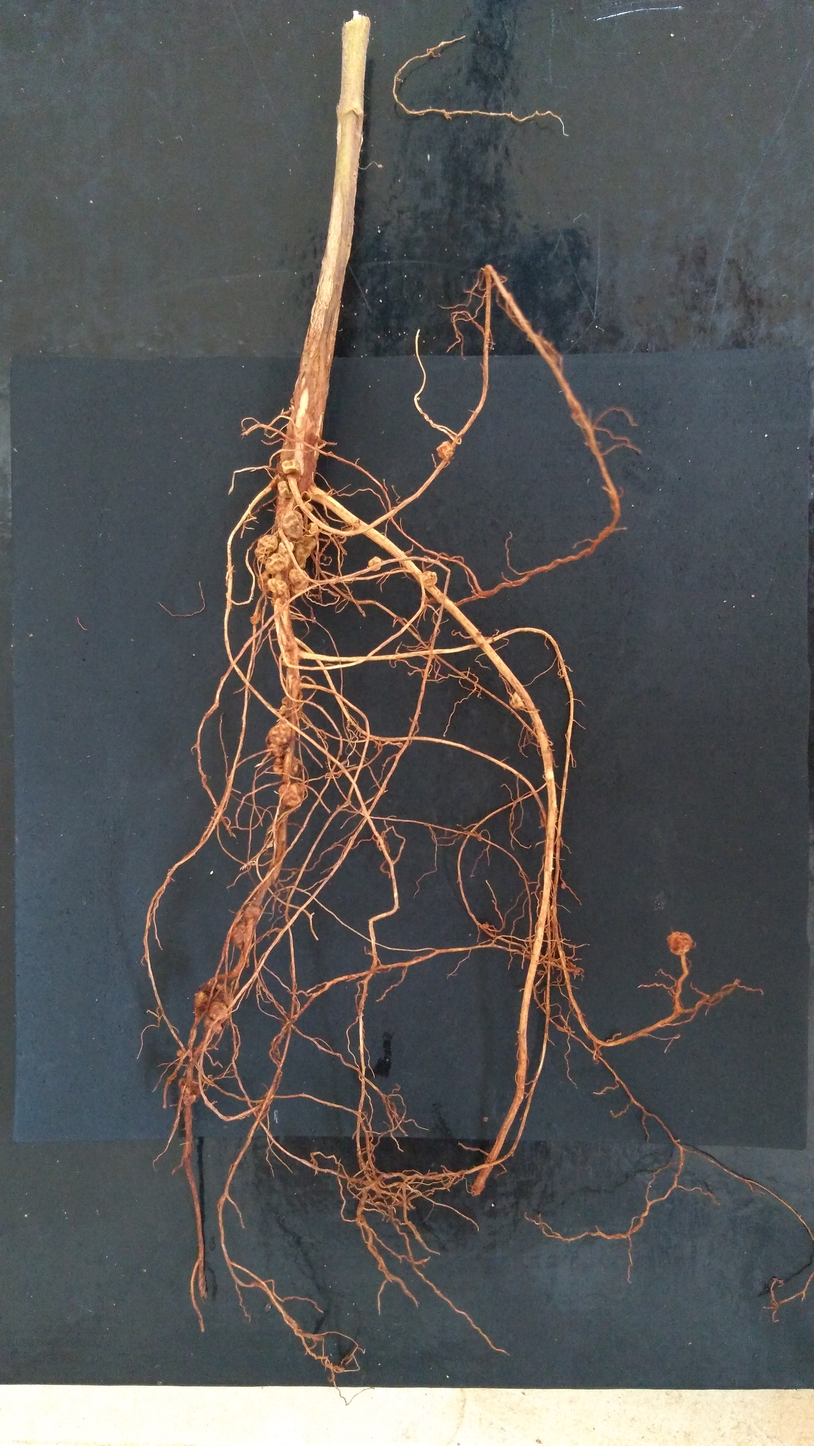nodule: (194, 983, 233, 1014), (265, 718, 292, 756), (202, 1000, 229, 1035), (293, 535, 317, 570), (278, 781, 306, 809), (177, 1077, 203, 1106), (254, 534, 278, 565), (280, 691, 303, 721), (273, 755, 301, 778), (267, 577, 290, 605), (282, 510, 304, 539), (668, 931, 694, 955), (289, 568, 310, 596), (230, 919, 248, 948), (264, 553, 286, 575), (278, 540, 294, 565), (435, 441, 455, 460), (509, 691, 528, 710), (243, 905, 261, 925), (257, 569, 272, 593), (282, 459, 302, 474), (420, 570, 438, 586), (277, 480, 291, 499), (368, 556, 382, 572), (301, 499, 312, 514), (307, 522, 319, 535), (280, 652, 291, 666), (250, 612, 262, 624), (176, 1047, 185, 1058), (481, 923, 489, 929)
